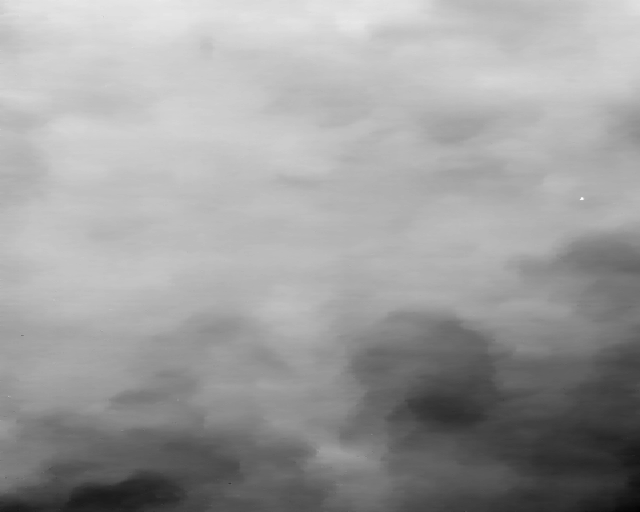Target: (579, 198, 584, 200)
